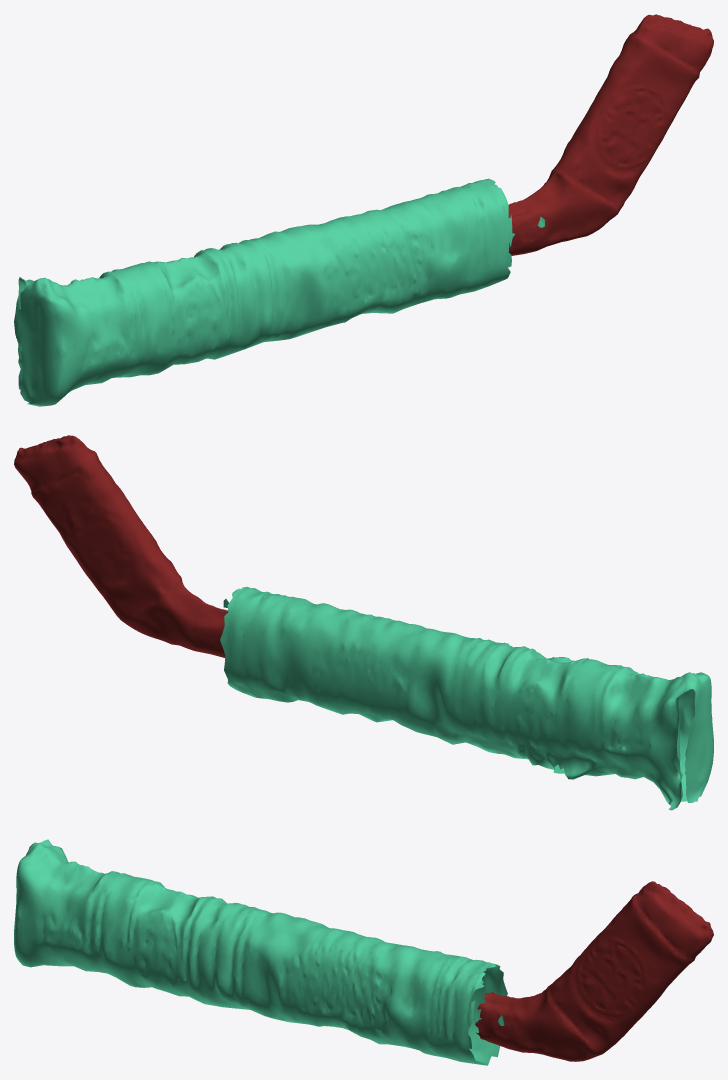
Rendered from object_deformed_9.obj.
The picture shows the model from 3 angles, top to bottom: view 1: azimuth 30°, elevation 25°; view 2: azimuth 150°, elevation 25°; view 3: azimuth 330°, elevation 25°; orthographic projection. The views are drawn at different scales.
Size of the model in its own units: 0.6063 by 0.1902 by 0.0686.
